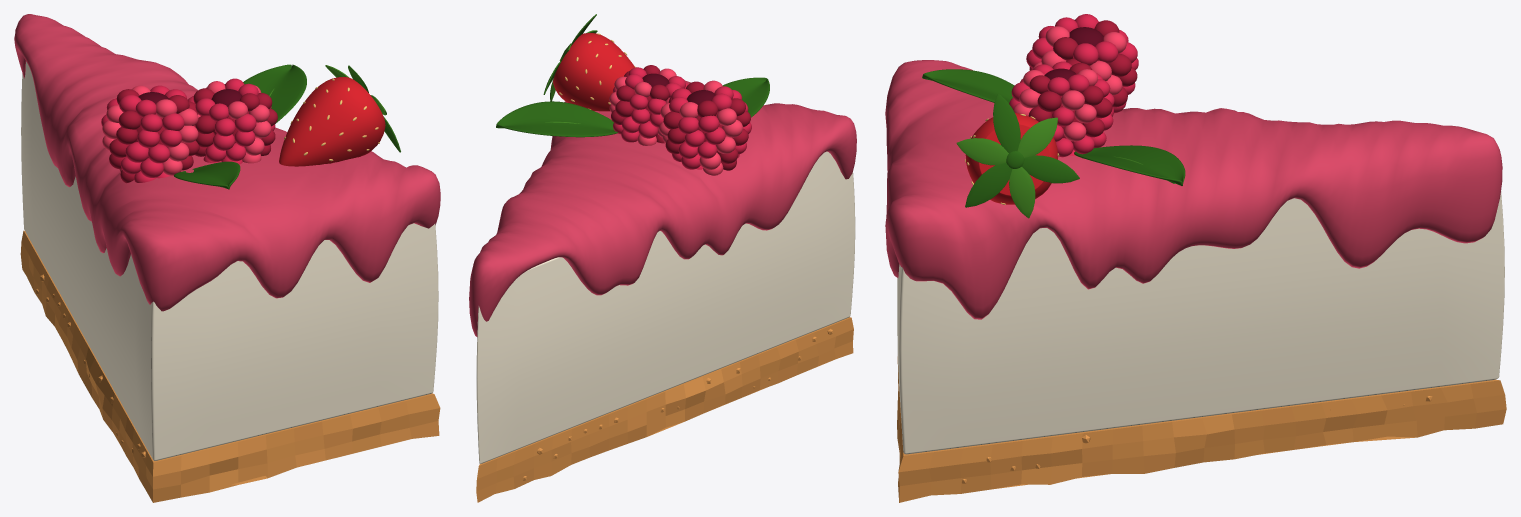
Rendered from berry_cheesecake.glb.
3 views of the same model, side by side, from view 1: azimuth 30°, elevation 25°; view 2: azimuth 150°, elevation 25°; view 3: azimuth 270°, elevation 25° (orthographic). The views are drawn at different scales.
Visible parts, largest first — view 1: Cheese, Icing, Crust, Strawberry_Right_Flesh, Mint_Leaf_Rear_Blade, Mint_Leaf_Side_Blade; view 2: Cheese, Icing, Crust, Strawberry_Right_Flesh, Mint_Leaf_Rear_Blade, Mint_Leaf_Side_Blade; view 3: Cheese, Icing, Crust, Mint_Leaf_Rear_Blade, Mint_Leaf_Side_Blade, Strawberry_Right_Flesh, Strawberry_Right_Calyx_3, Strawberry_Right_Calyx_5, Strawberry_Right_Calyx_1, Strawberry_Right_Calyx_4, Strawberry_Right_Calyx_6, Strawberry_Right_Calyx_2.
Part boxes in pixels (box(x1,y1,x2,y2)): Cheese: box(21, 61, 438, 460); Icing: box(14, 14, 440, 311); Crust: box(20, 230, 440, 502); Strawberry_Right_Flesh: box(279, 77, 385, 166); Mint_Leaf_Rear_Blade: box(243, 64, 306, 123); Mint_Leaf_Side_Blade: box(174, 161, 240, 189); Cheese: box(476, 151, 855, 463); Icing: box(469, 80, 856, 336); Crust: box(476, 317, 853, 502); Strawberry_Right_Flesh: box(553, 33, 634, 111); Mint_Leaf_Rear_Blade: box(496, 101, 617, 137); Mint_Leaf_Side_Blade: box(722, 77, 769, 117); Cheese: box(897, 191, 1504, 454); Icing: box(885, 60, 1502, 319); Crust: box(897, 356, 1506, 502); Mint_Leaf_Rear_Blade: box(1074, 145, 1185, 185); Mint_Leaf_Side_Blade: box(922, 69, 1014, 103); Strawberry_Right_Flesh: box(965, 112, 1057, 204); Strawberry_Right_Calyx_3: box(993, 93, 1020, 152); Strawberry_Right_Calyx_5: box(965, 162, 1012, 207); Strawberry_Right_Calyx_1: box(1022, 155, 1079, 183); Strawberry_Right_Calyx_4: box(956, 138, 1008, 165); Strawberry_Right_Calyx_6: box(1009, 166, 1035, 218); Strawberry_Right_Calyx_2: box(1017, 117, 1057, 157).
Size of the model in its own units: 1.35 by 1.51 by 2.2.
